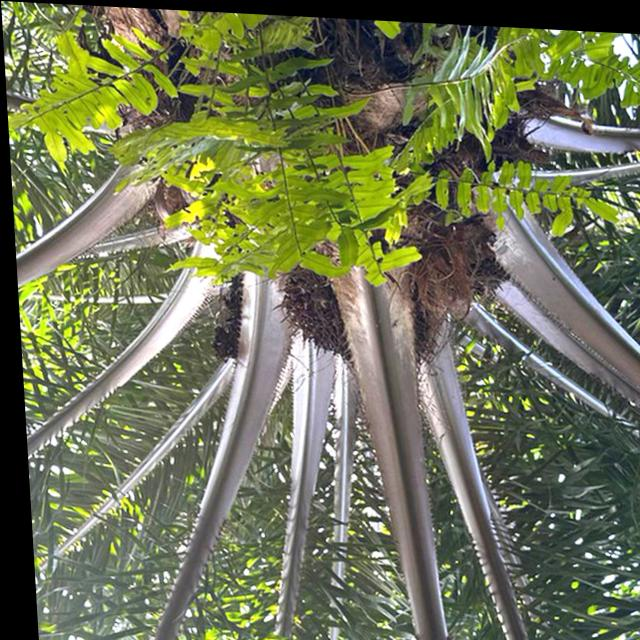ripe: (268, 257, 442, 383)
